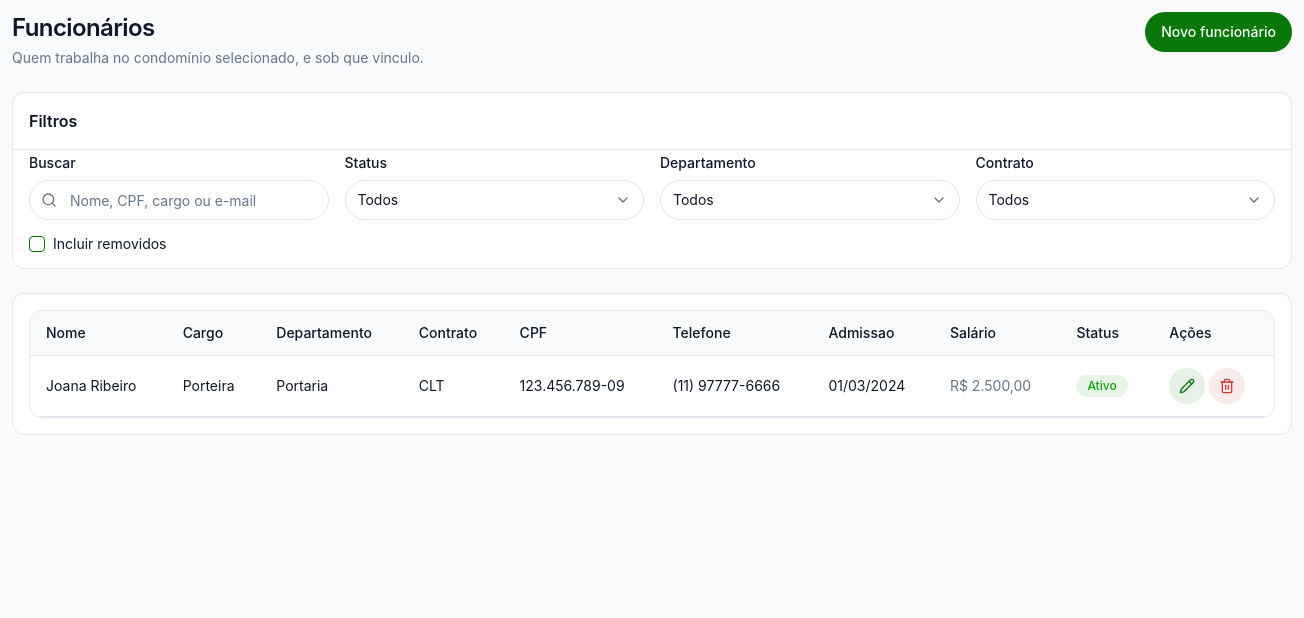
Test case: Estados vazios de funcionários › busca sem resultado oferece limpar, e não se confunde com a lista vazia
The image size is (1304, 618).
Check: the text "Joana Ribeiro" is shown, box top-left (46, 376), bottom-right (136, 396)
Type "Fulano" into the field labelled "Buscar" at (179, 200), box top-left (29, 180), bottom-right (328, 220)
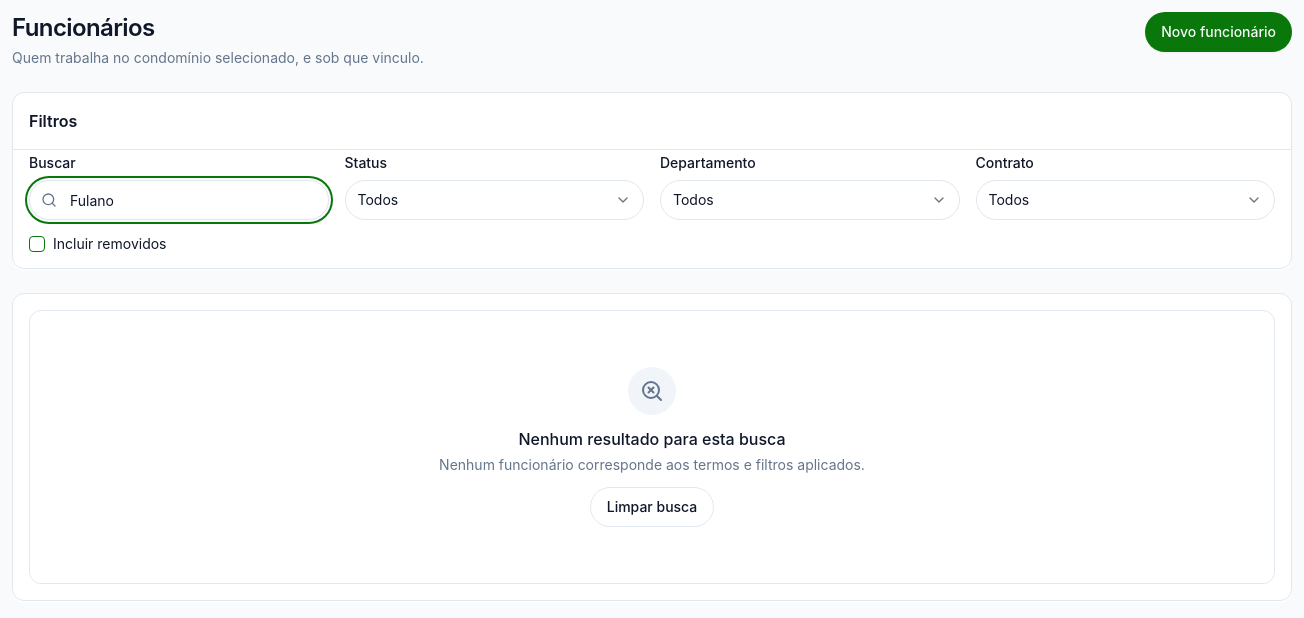
Check: the text "Nenhum resultado para esta busca" is shown, box top-left (518, 429), bottom-right (786, 449)
Check: the button "Limpar busca" is shown, box top-left (590, 487), bottom-right (714, 527)
